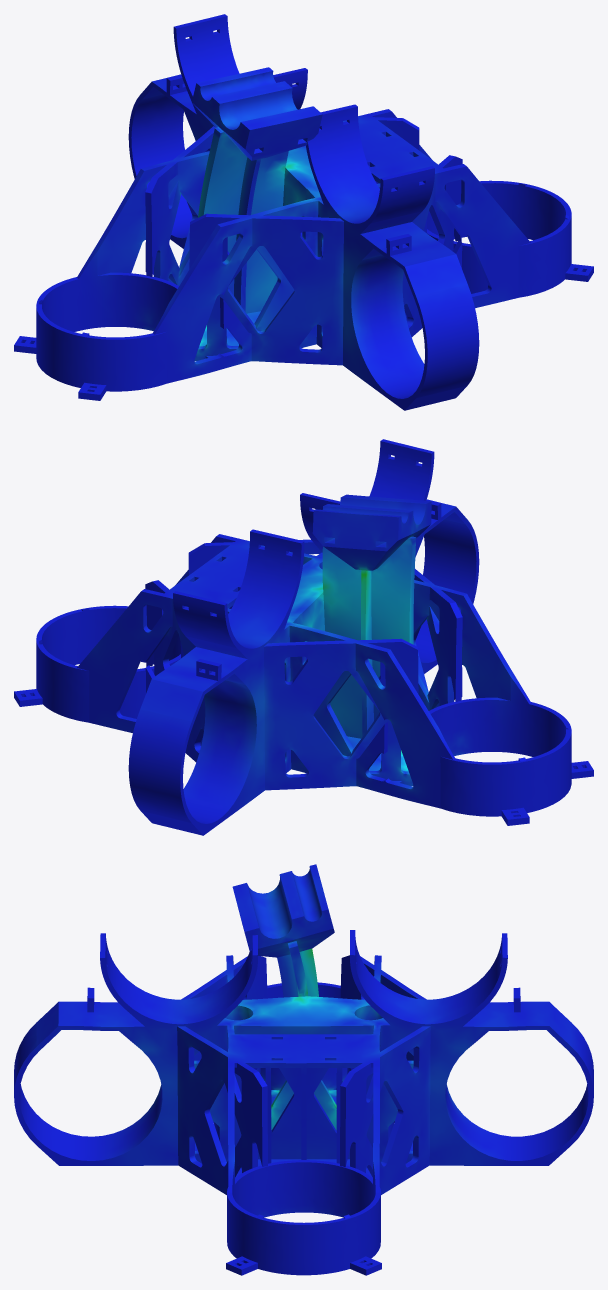
Rendered from result.glb.
3 views of the same model, one above another, from view 1: azimuth 30°, elevation 25°; view 2: azimuth 150°, elevation 25°; view 3: azimuth 270°, elevation 25° (orthographic). The views are drawn at different scales.
Visible parts, largest first — view 1: 57e0a685-ddd5-5b07-8110-d83b3296390d von Mises; view 2: 57e0a685-ddd5-5b07-8110-d83b3296390d von Mises; view 3: 57e0a685-ddd5-5b07-8110-d83b3296390d von Mises.
Part boxes in pixels (x1,y1,x2,y2): 57e0a685-ddd5-5b07-8110-d83b3296390d von Mises: [14, 14, 593, 410]; 57e0a685-ddd5-5b07-8110-d83b3296390d von Mises: [14, 439, 593, 835]; 57e0a685-ddd5-5b07-8110-d83b3296390d von Mises: [14, 864, 593, 1275].
Bounding box in the file's own units: 0.2603 × 0.1202 × 0.2614.
1 material, 1 textured.
